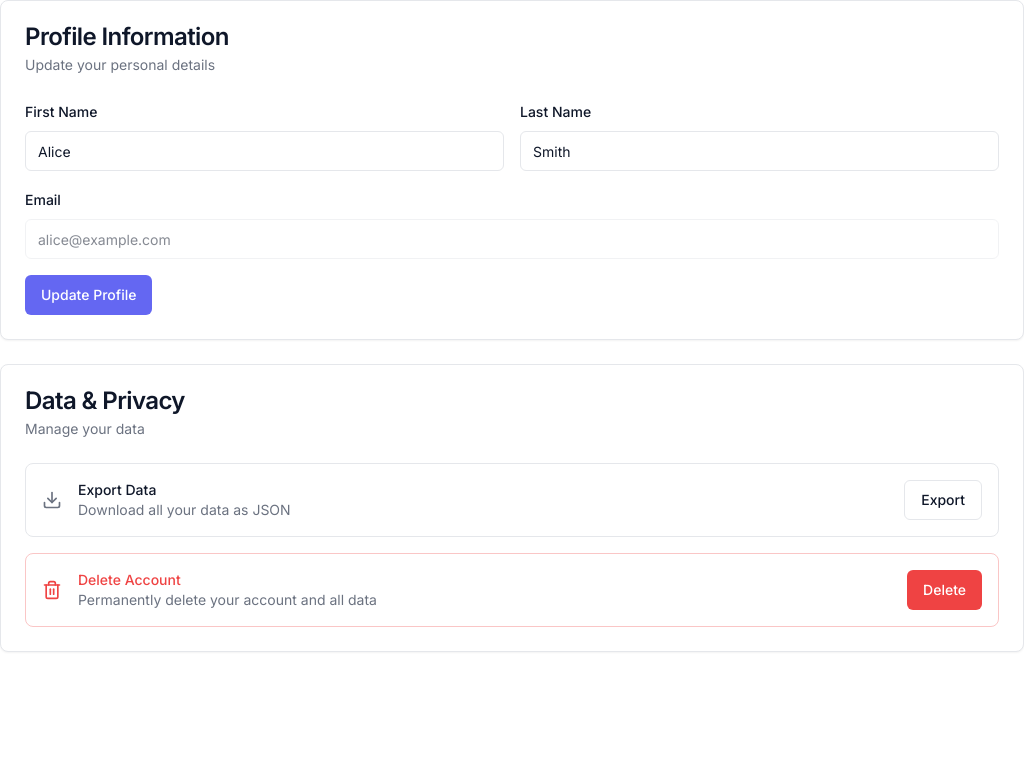
Test case: AccountTab - profile update › should show "Updating..." text while the update is in progress
This screenshot has width=1024, height=768.
Click the button "Update Profile": (89, 295) [25,275,152,315]
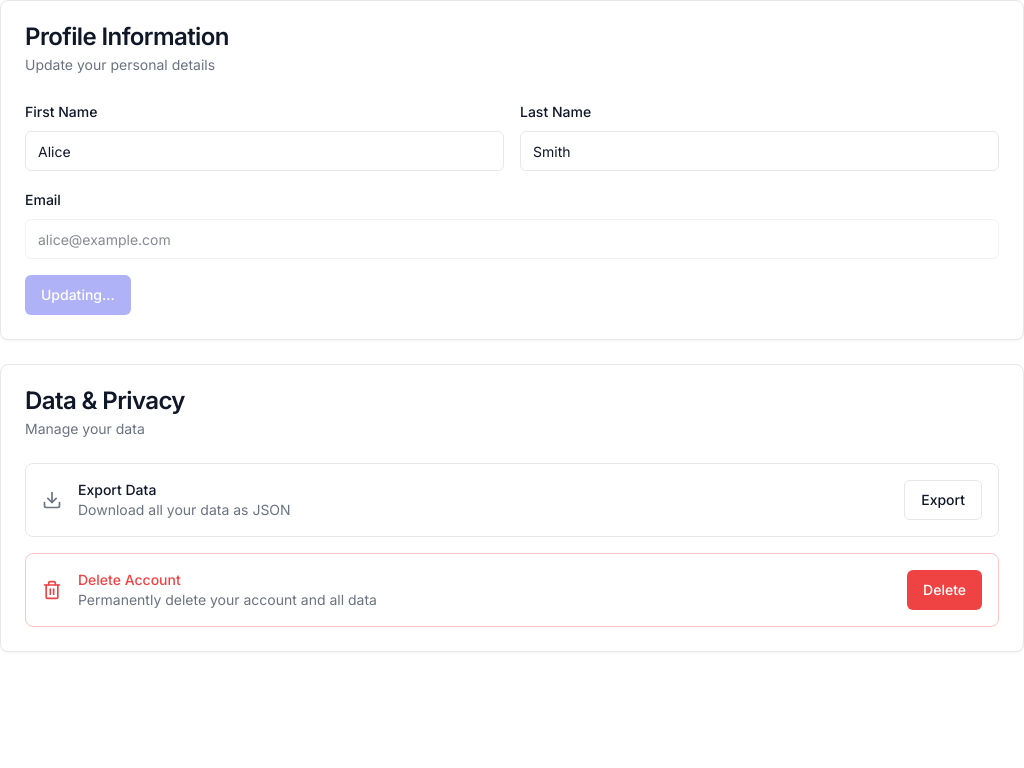
Now the button "Updating..." is shown, box [25,275,131,315]
